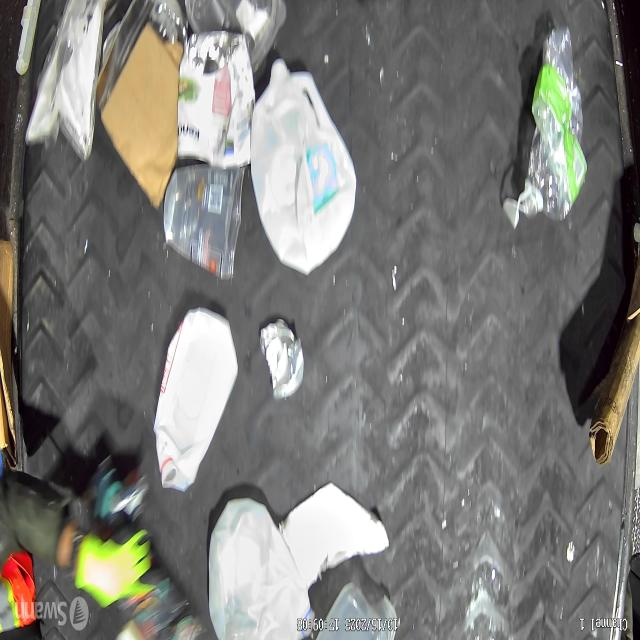milk_jug: (251, 65, 355, 279), (148, 316, 239, 494), (210, 503, 314, 640)
plastic_bottle: (520, 31, 584, 228)
